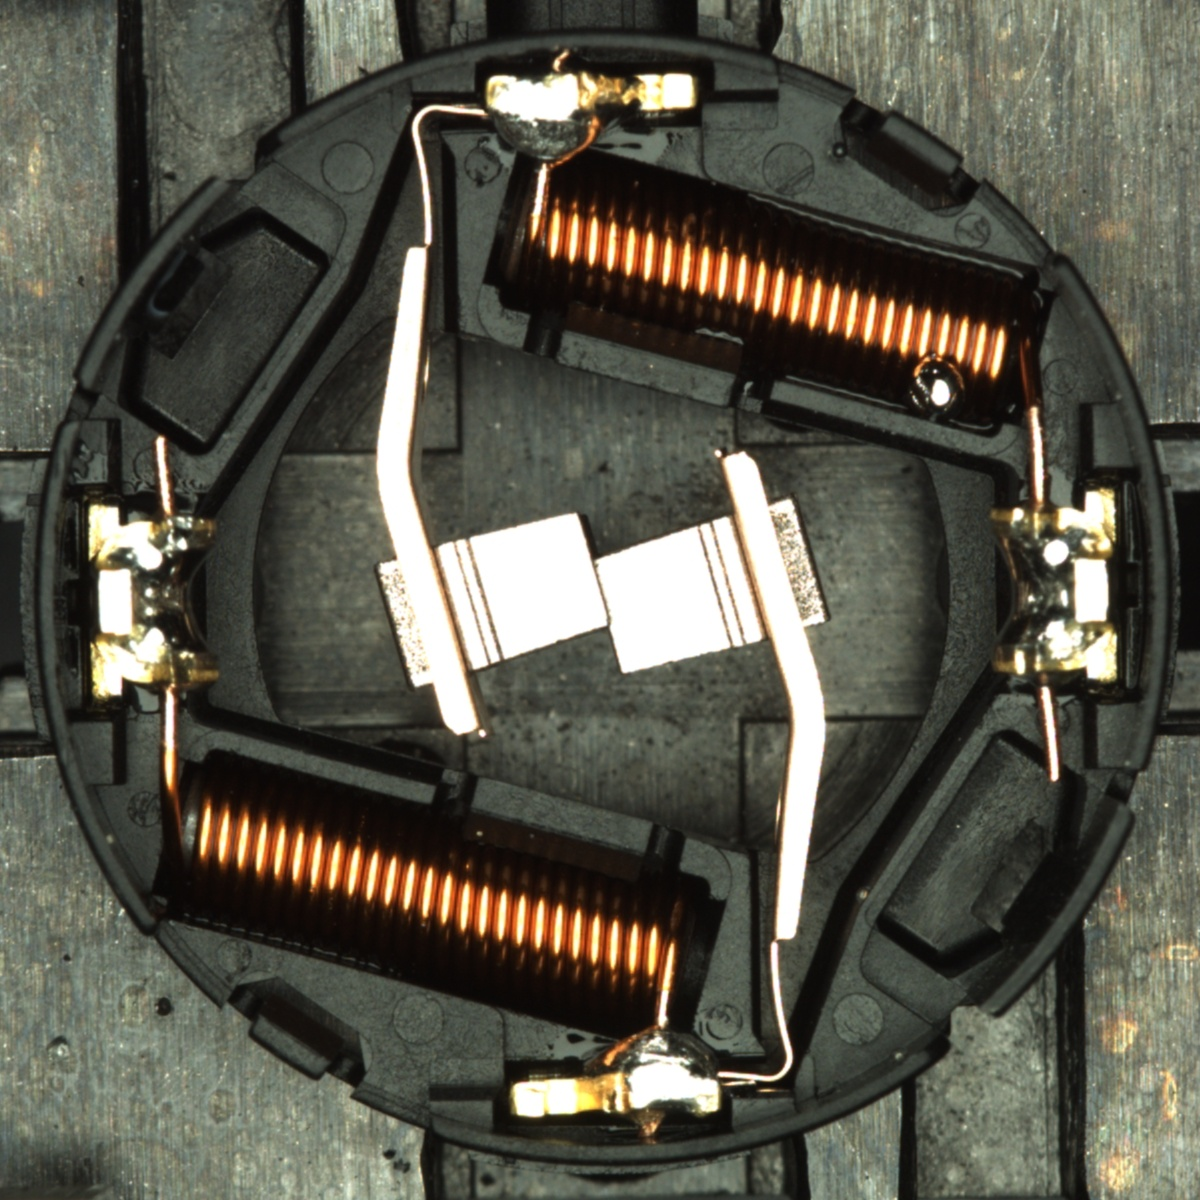1: (254, 31, 484, 255), (712, 929, 941, 1153)
2: (254, 929, 484, 1153), (712, 31, 941, 255)
3: (24, 255, 254, 480), (941, 704, 1171, 929)
4: (254, 255, 484, 480), (712, 704, 941, 929)
5: (484, 143, 712, 368), (484, 816, 712, 1041)
6: (254, 704, 484, 929)
7: (24, 704, 254, 929)
cacbon: (397, 499, 798, 685)
chau_dien: (81, 499, 222, 700), (984, 489, 1124, 686)
hat_chi: (909, 357, 967, 419)
tay_choi: (484, 68, 701, 171), (507, 1023, 723, 1121)
thanh_de: (954, 786, 1142, 1034), (60, 164, 246, 405)
vun_chi: (907, 356, 967, 416)
